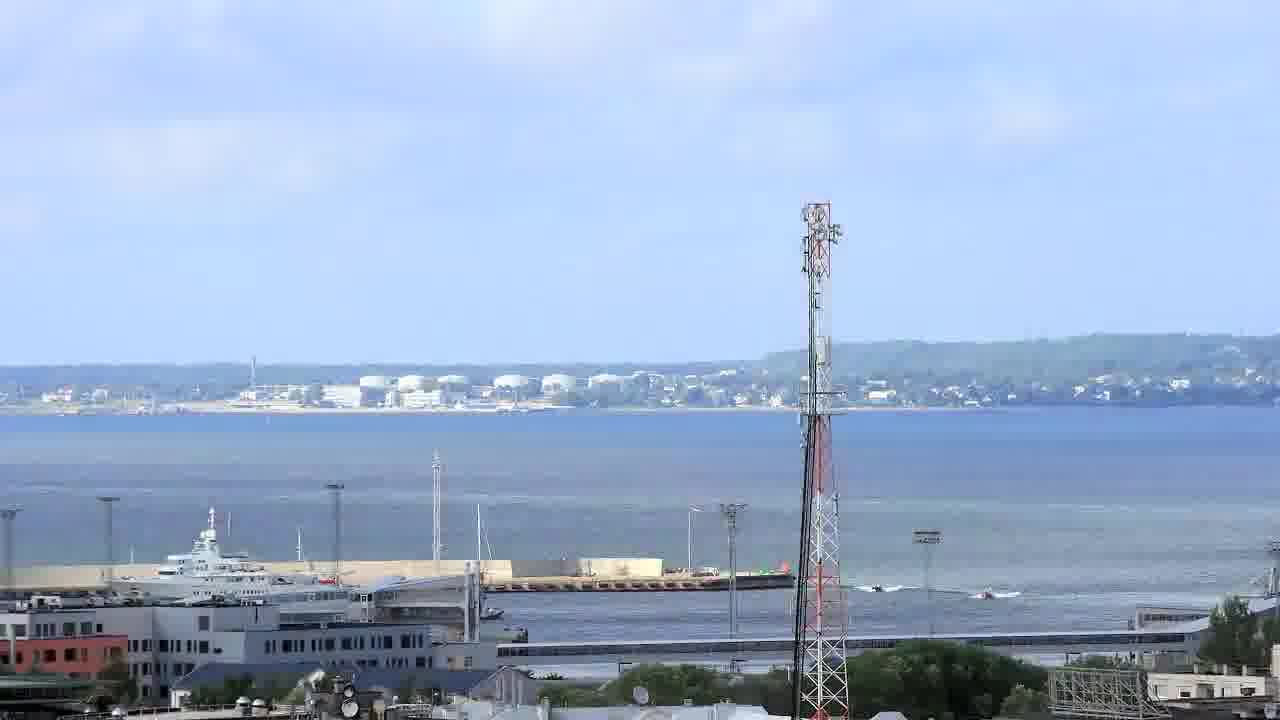type-3: (89, 518, 402, 620)
type-4: (965, 580, 1012, 616), (853, 573, 900, 608)
